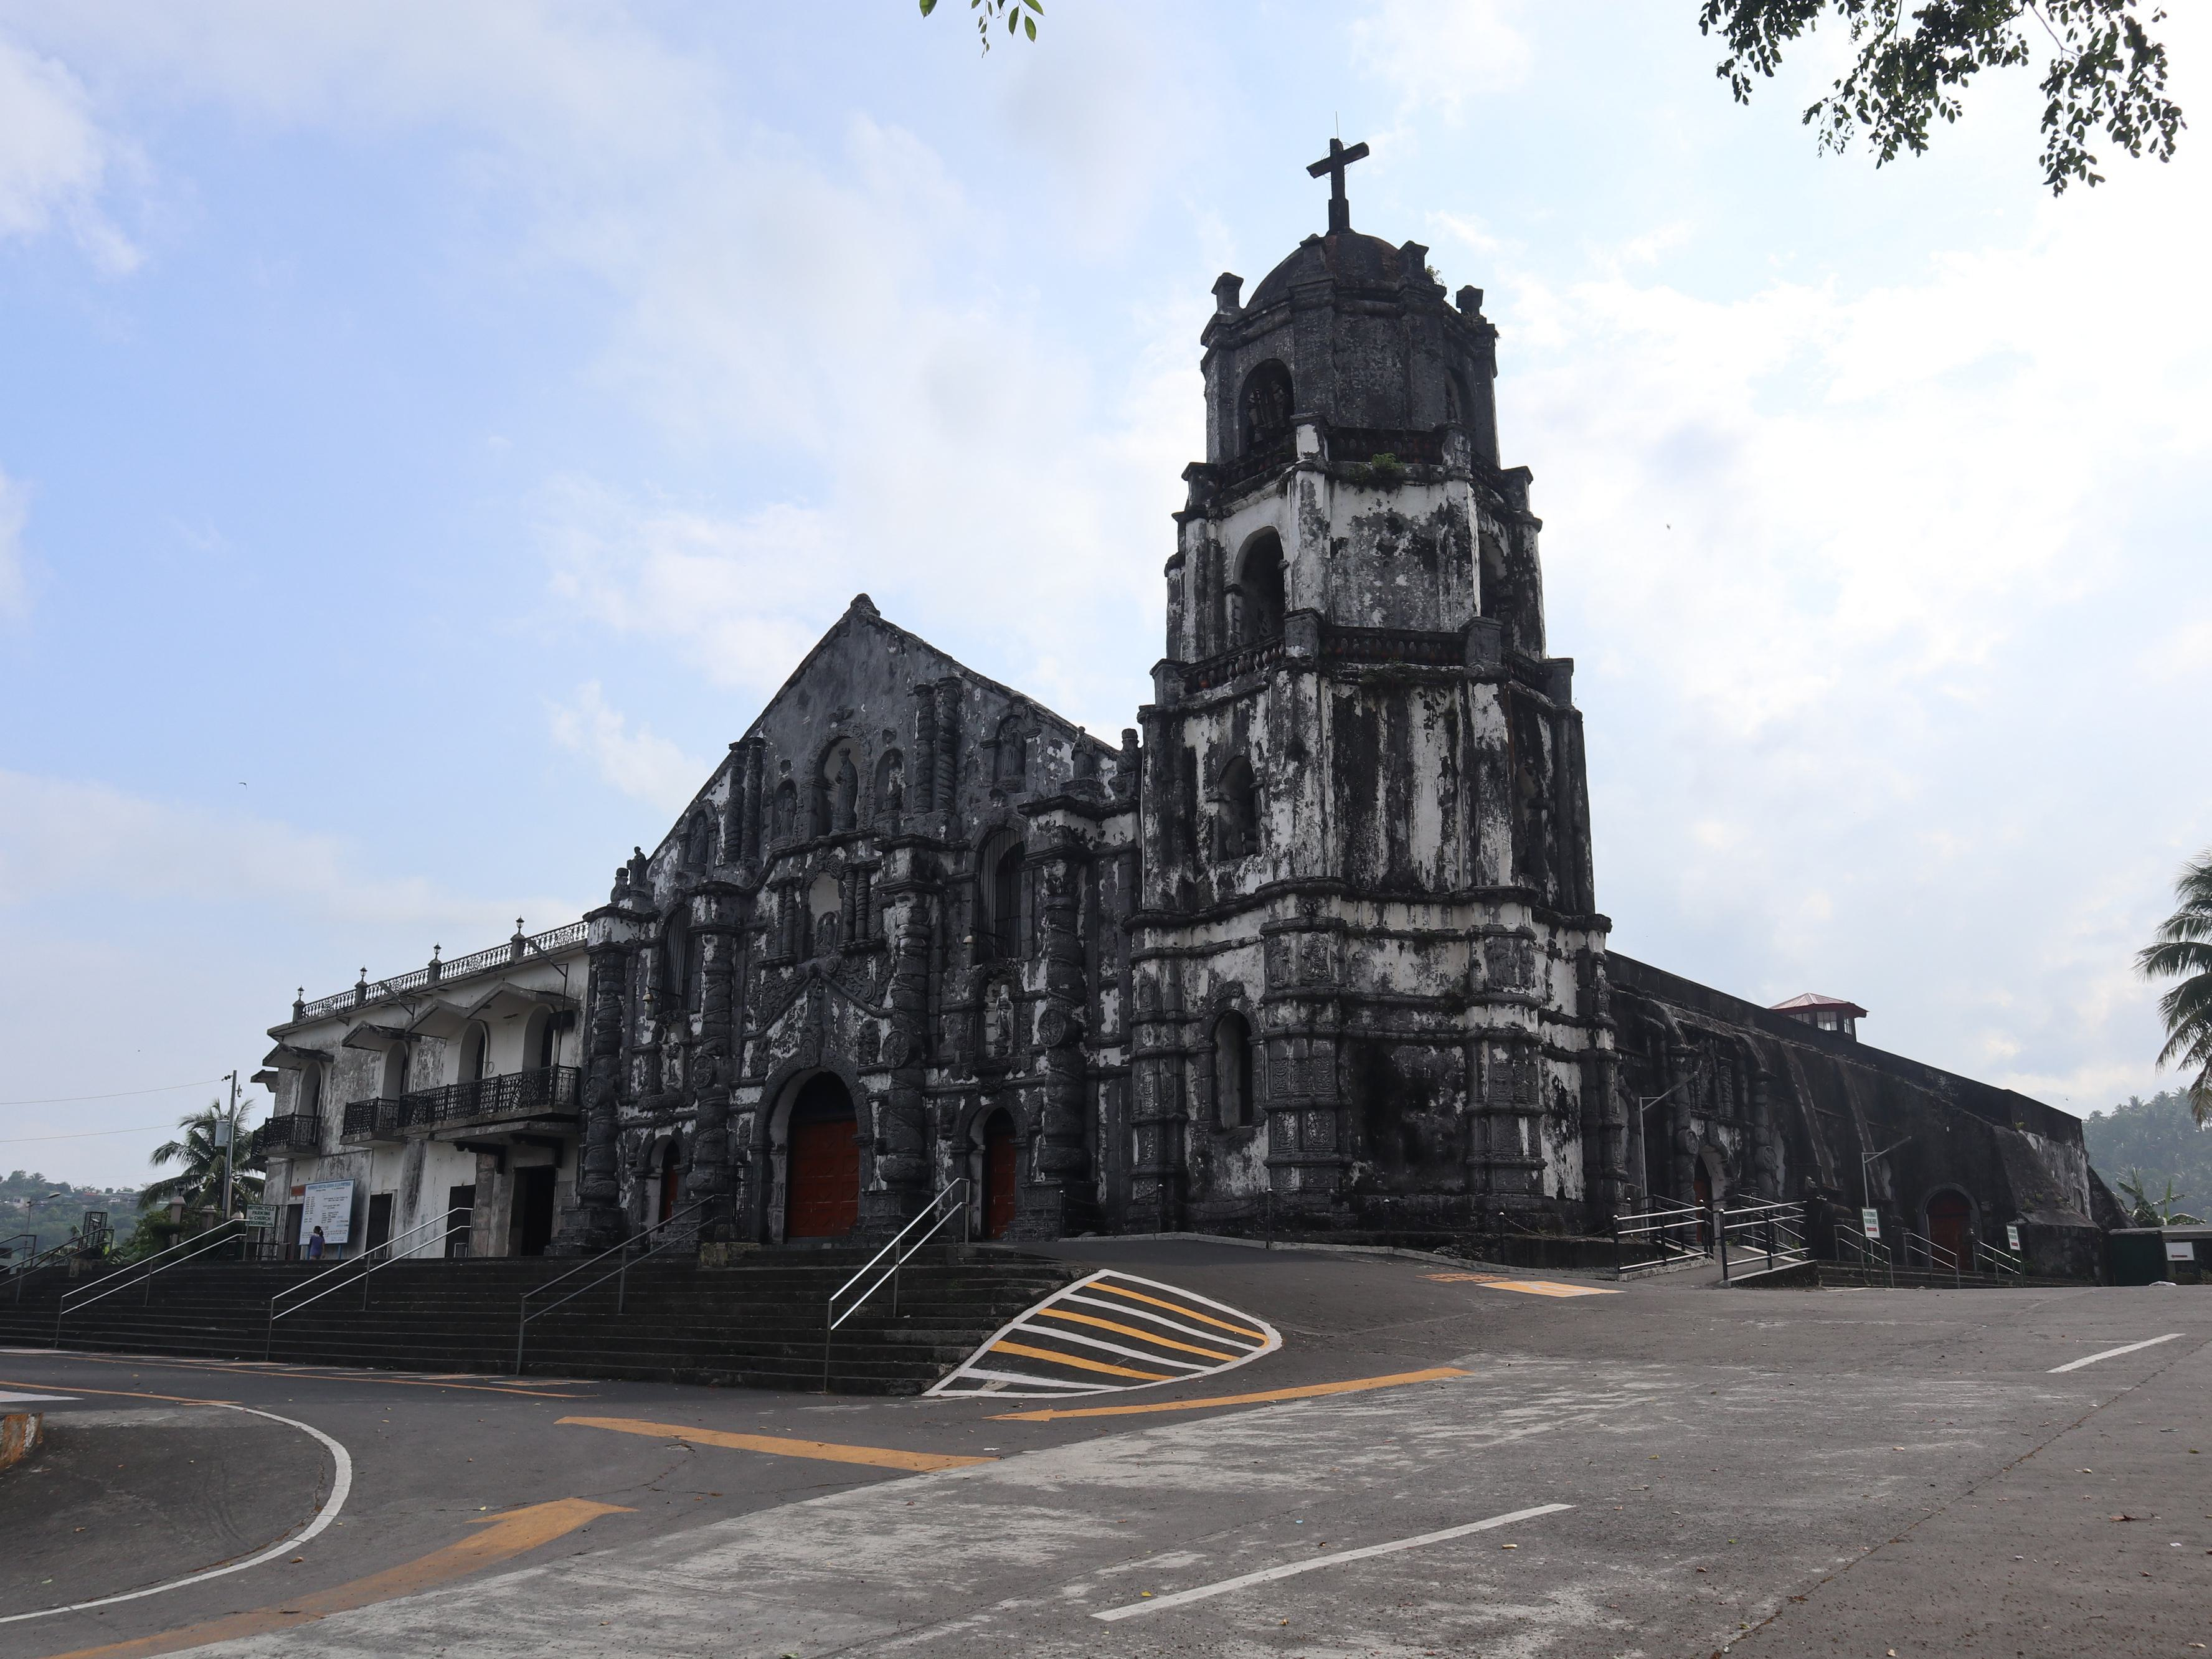daraga_church_daraga_albay: (575, 124, 1646, 1265)
